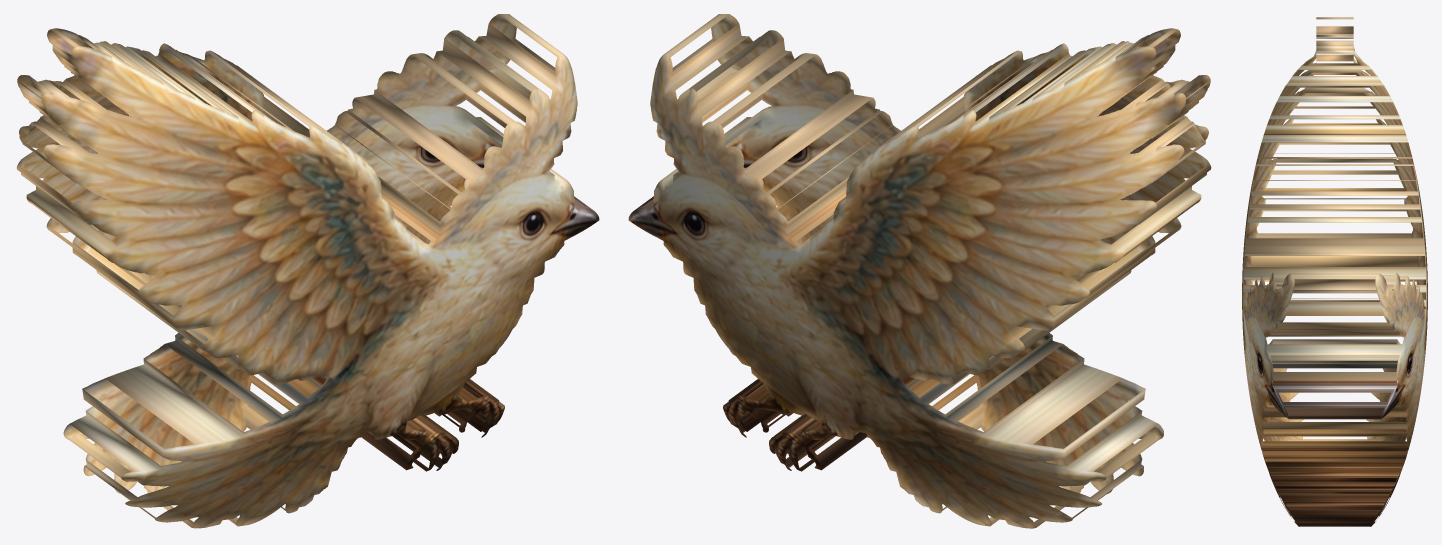
The picture shows the model from 3 angles, left to right: view 1: azimuth 30°, elevation 25°; view 2: azimuth 150°, elevation 25°; view 3: azimuth 270°, elevation 25°; orthographic projection. The views are drawn at different scales.
Visible parts, largest first — view 1: organisms:7; view 2: organisms:7; view 3: organisms:7.
Part boxes in pixels (x1,y1,x2,y2): organisms:7: (16,14,599,528); organisms:7: (628,14,1211,528); organisms:7: (1242,17,1427,526).
Bounding box in the file's own units: 1.07 × 0.9535 × 0.4199.
Materials: 1 (1 with a texture image).
